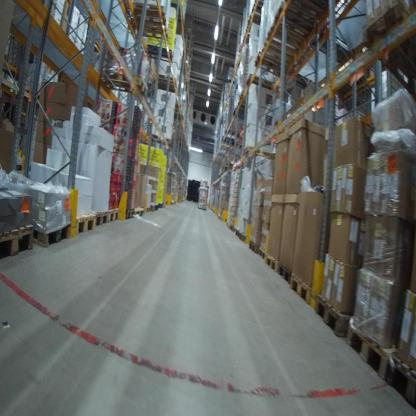pallet: (361, 1, 415, 99), (343, 316, 402, 382), (313, 290, 351, 337), (31, 207, 74, 246), (385, 354, 416, 403), (99, 69, 148, 100), (253, 48, 295, 80), (0, 223, 35, 259), (288, 269, 310, 308), (130, 2, 168, 22), (133, 18, 166, 40), (73, 207, 97, 235), (145, 43, 173, 63), (154, 71, 178, 86), (263, 251, 279, 273), (276, 260, 289, 287), (108, 205, 121, 223), (94, 211, 109, 226), (246, 239, 260, 255), (125, 207, 135, 223), (135, 206, 146, 218), (257, 246, 266, 260), (142, 204, 151, 215)
